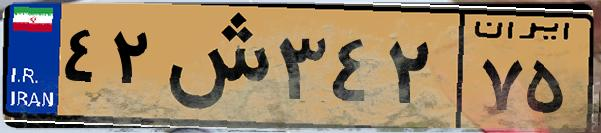2: (385, 28, 445, 110), (110, 28, 158, 98)
3: (270, 28, 330, 110)
4: (330, 28, 385, 110), (57, 26, 110, 100)
5: (525, 38, 570, 115)
7: (475, 38, 525, 113)
ش: (158, 12, 270, 120)
